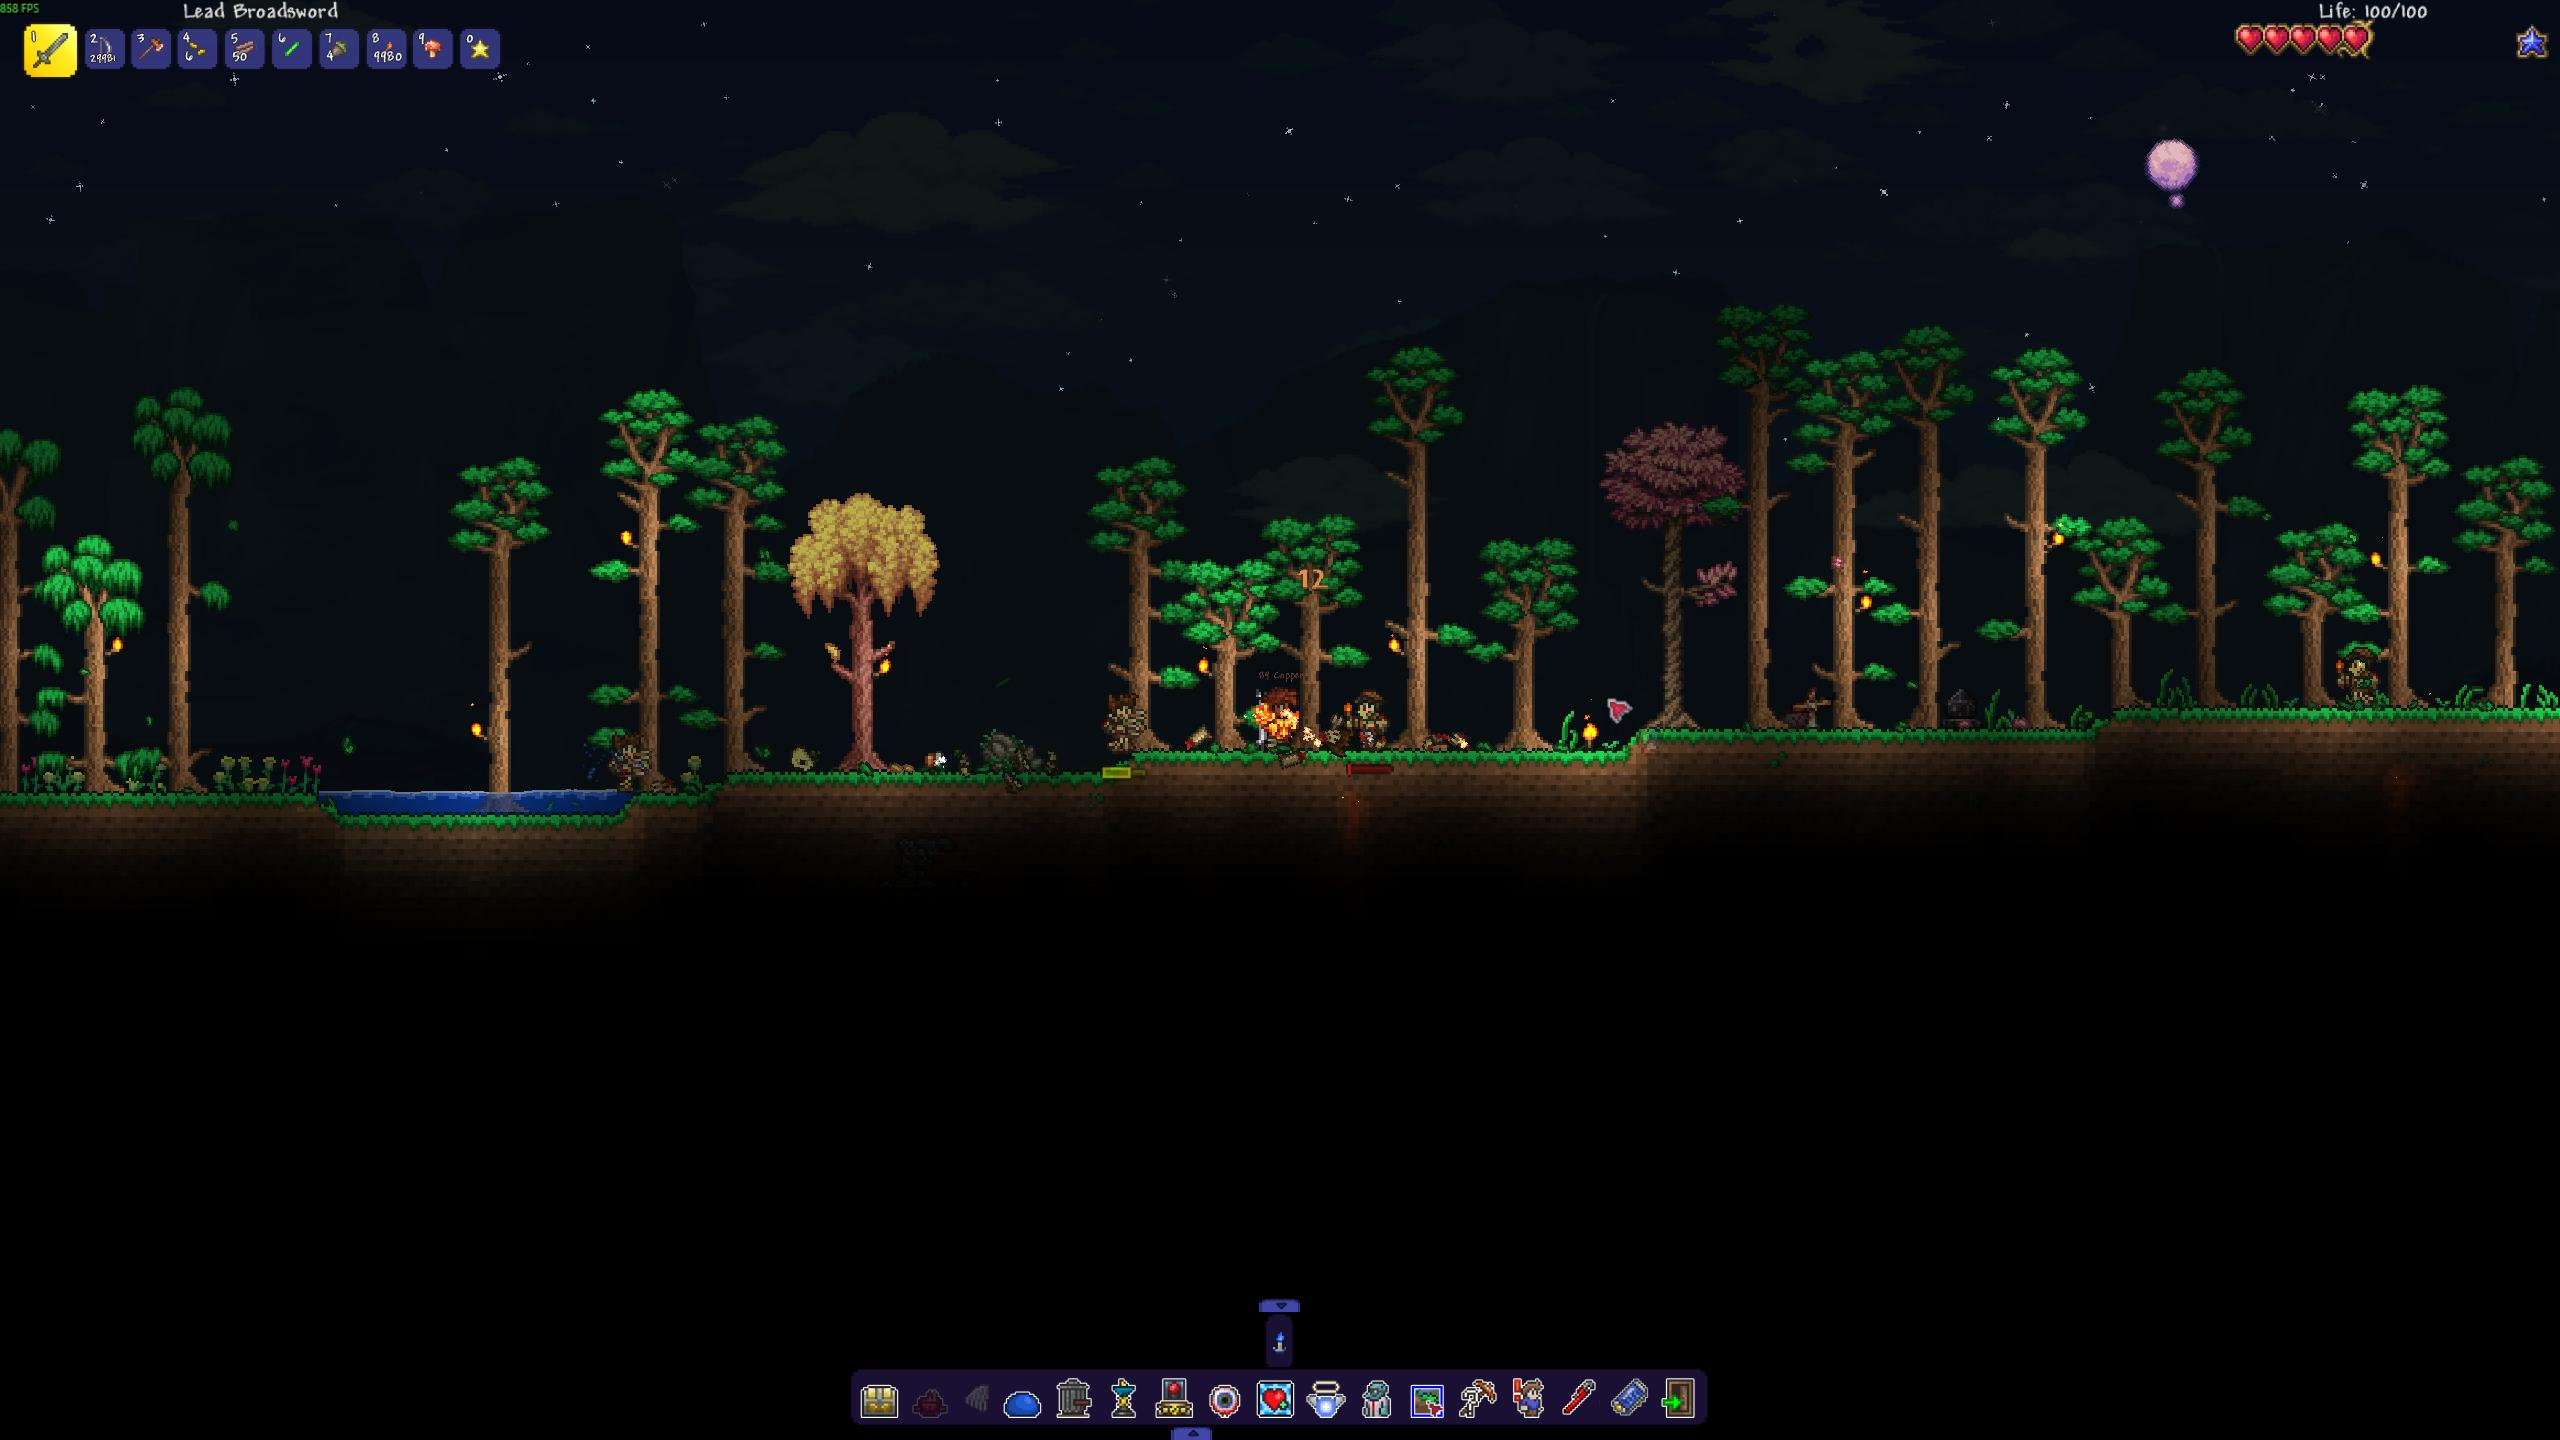Zombie: (1338, 686, 1389, 751), (2331, 644, 2382, 707), (1099, 689, 1148, 753), (607, 733, 651, 791)
